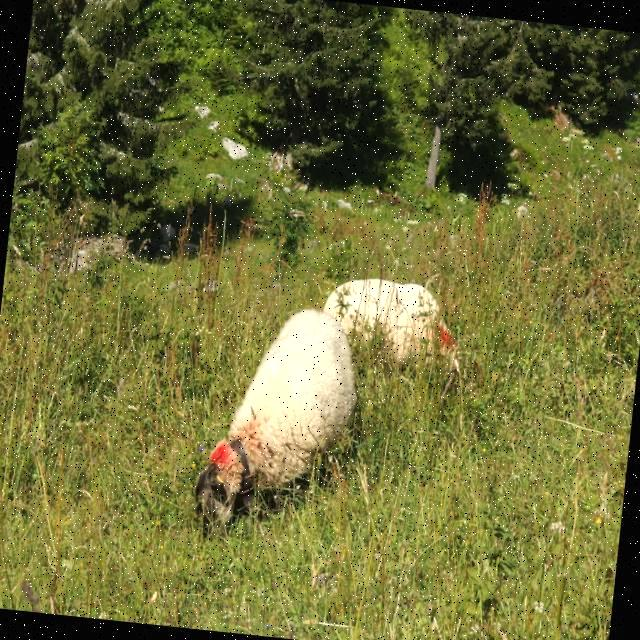sheep: (196, 307, 356, 534), (325, 277, 458, 368)
